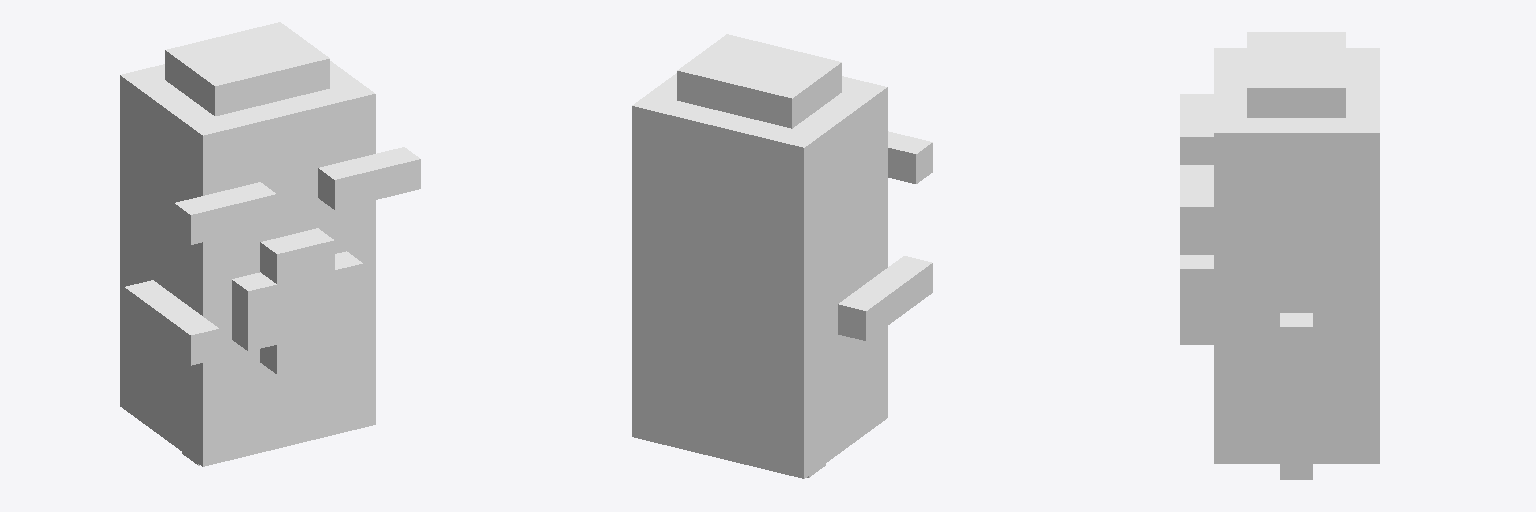
Rendered from chr_old_rh.obj.
3 views of the same model, side by side, from view 1: azimuth 30°, elevation 25°; view 2: azimuth 150°, elevation 25°; view 3: azimuth 270°, elevation 25° (orthographic).
Visible parts, largest first — view 1: chr_old_rh; view 2: chr_old_rh; view 3: chr_old_rh.
Boxes of the visible parts, <box> form: chr_old_rh: <box>120,22,420,466</box>; chr_old_rh: <box>632,34,932,478</box>; chr_old_rh: <box>1180,32,1379,479</box>.
Bounding box in the file's own units: 8 × 13 × 6.